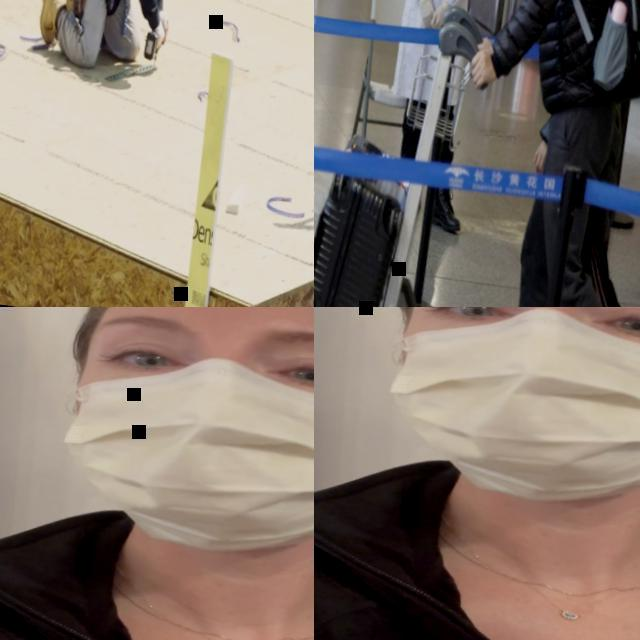mask: (49, 352, 314, 573), (375, 307, 640, 523)
no_helmet: (85, 307, 314, 350)
no_vest: (314, 473, 640, 640), (0, 523, 314, 640), (526, 0, 634, 101)
person: (314, 307, 640, 640), (0, 307, 314, 640), (423, 0, 640, 307), (473, 0, 640, 307), (363, 0, 521, 238), (31, 0, 198, 77)
